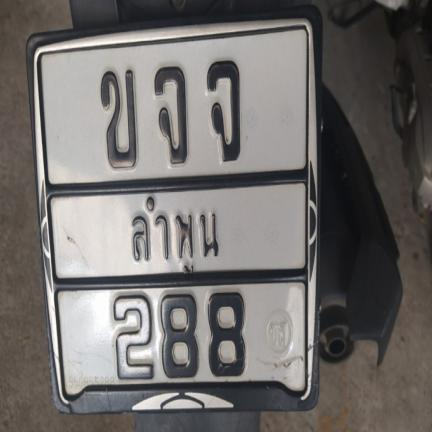2: (110, 290, 158, 381)
8: (205, 286, 252, 381), (160, 291, 200, 381)
A02: (95, 66, 141, 171)
A08: (198, 54, 244, 165), (146, 63, 192, 168)
LPN: (118, 191, 223, 278)
